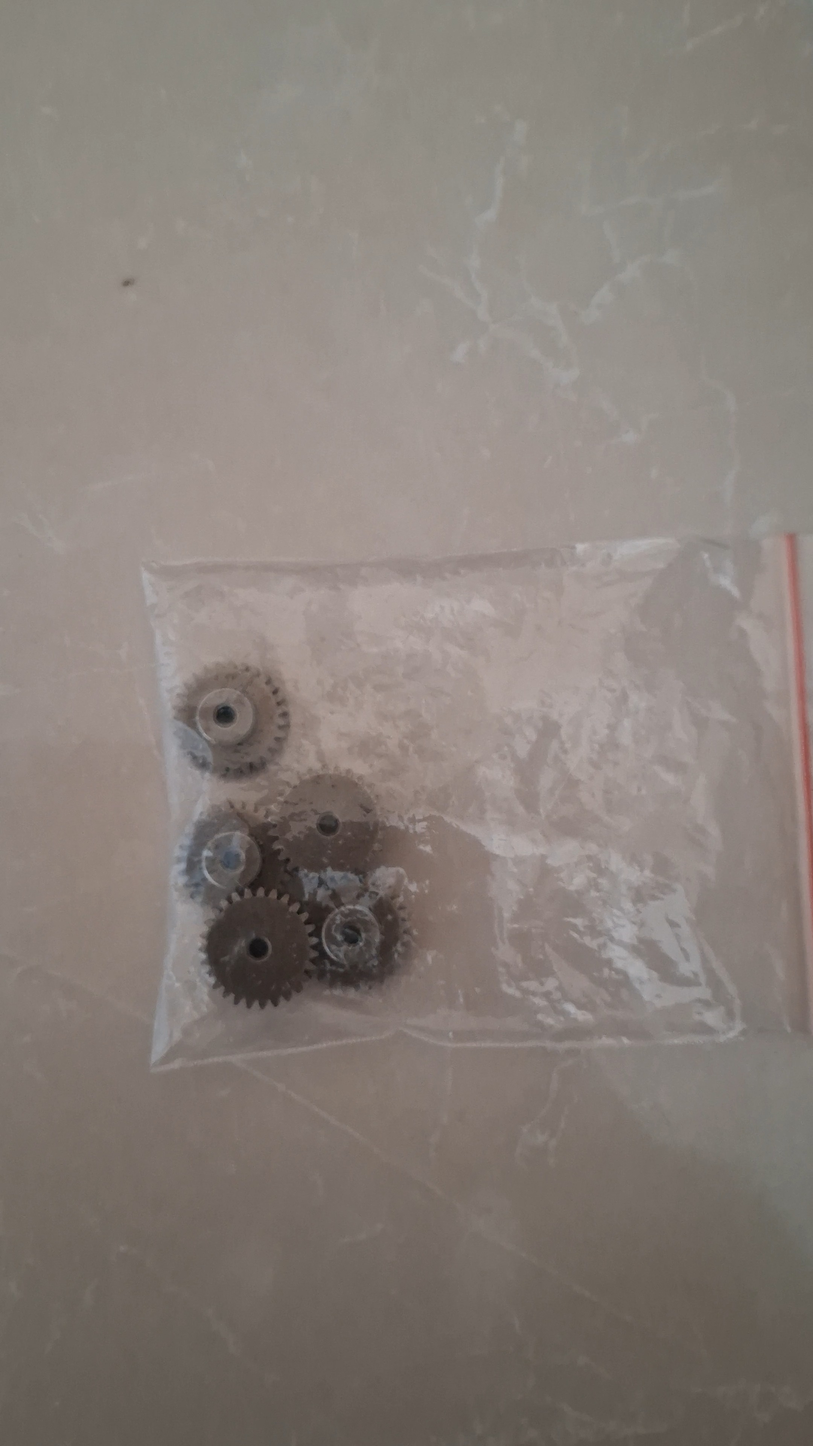spur gear: (203, 890, 315, 1007), (174, 664, 289, 777), (178, 803, 303, 904), (275, 773, 378, 873), (314, 881, 411, 985)
